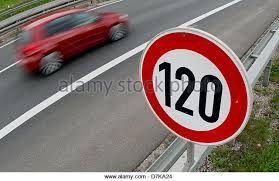Speed_limit_120km: (138, 25, 254, 148)
